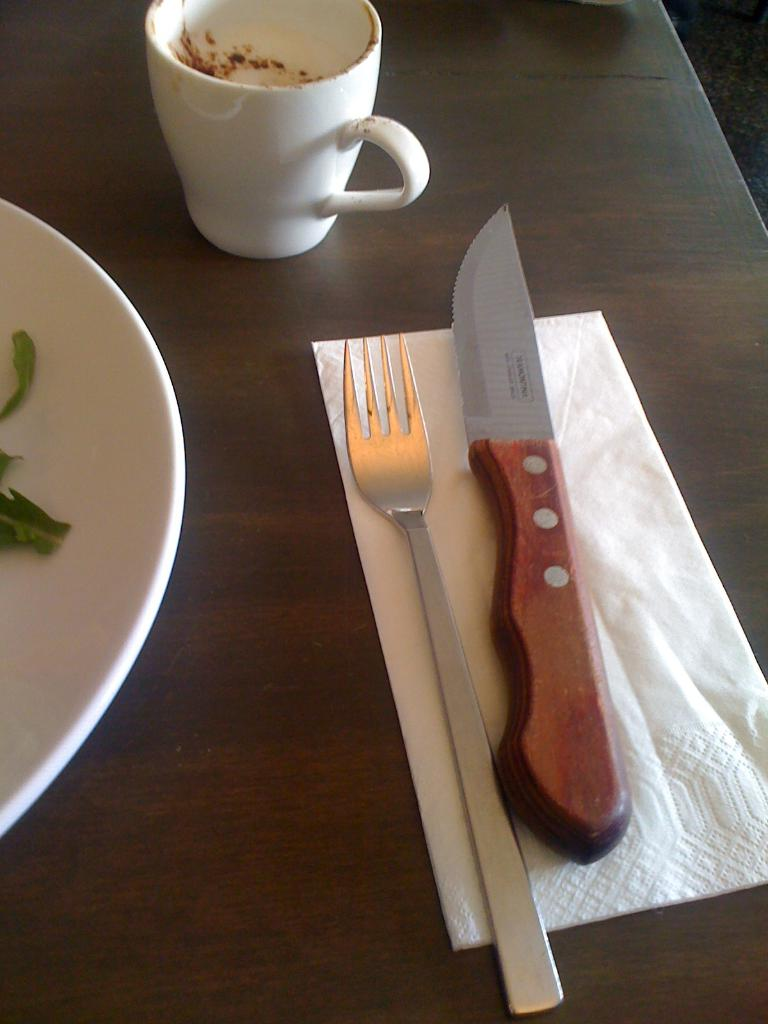kitchen knife: (449, 208, 634, 874)
